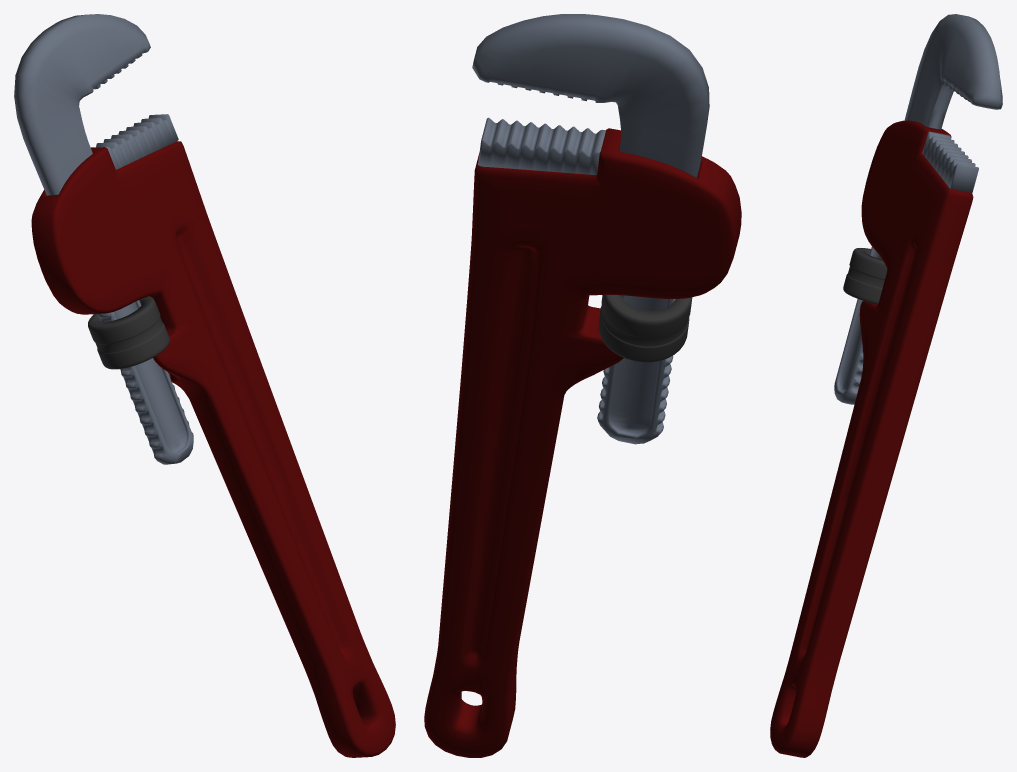
The model's file is wrench_animations.fbx.
The picture shows the model from 3 angles, left to right: view 1: azimuth 30°, elevation 25°; view 2: azimuth 150°, elevation 25°; view 3: azimuth 270°, elevation 25°; orthographic projection. The views are drawn at different scales.
Parts seen in each view (by area): view 1: Wrench; view 2: Wrench; view 3: Wrench.
Boxes of the visible parts, <box> form: Wrench: <box>14,14,395,757</box>; Wrench: <box>424,14,741,757</box>; Wrench: <box>770,14,1002,757</box>.
Size of the model in its own units: 110 by 249 by 81.5.
